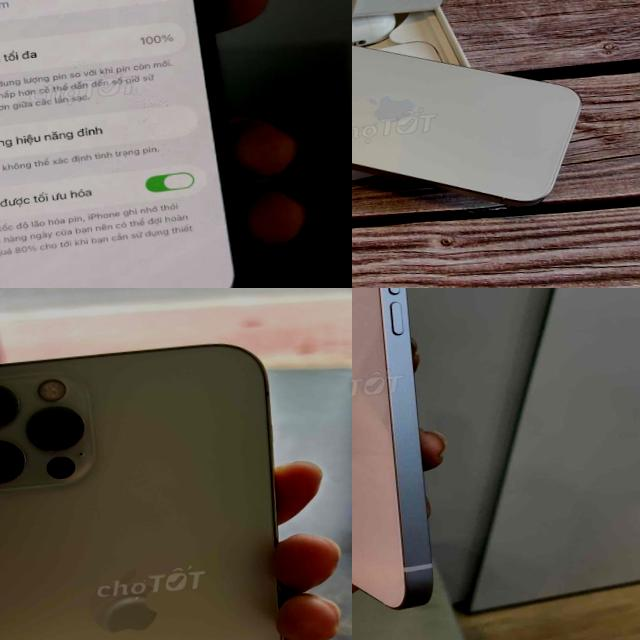gen_12_13: (0, 336, 308, 640), (0, 0, 249, 288)
gen_14: (352, 288, 472, 618)
gen_15: (352, 2, 594, 241)
